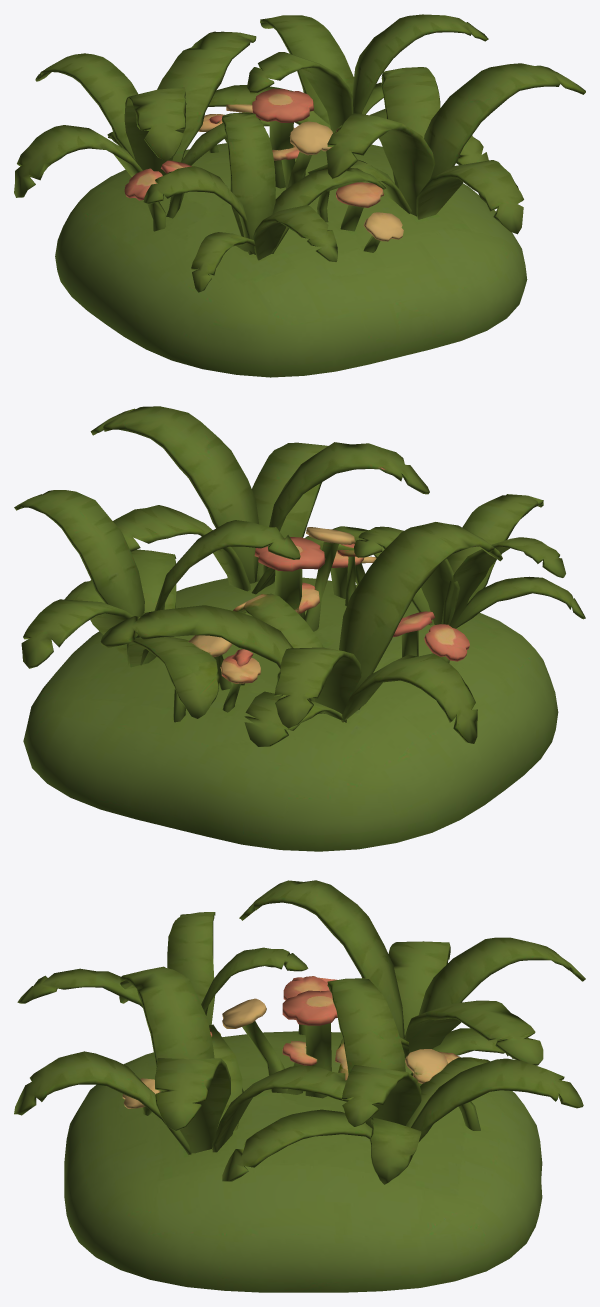
File: fern-flower-patch.glb
3 renders of one model, top to bottom at view 1: azimuth 30°, elevation 25°; view 2: azimuth 150°, elevation 25°; view 3: azimuth 270°, elevation 25°, orthographic. The views are drawn at different scales.
Parts seen in each view (by area): view 1: Fern Flower Patch; view 2: Fern Flower Patch; view 3: Fern Flower Patch.
Boxes of the visible parts, x1,y1,x2,y2 form: Fern Flower Patch: (14, 14, 585, 377); Fern Flower Patch: (14, 406, 585, 851); Fern Flower Patch: (14, 880, 585, 1292).
Bounding box in the file's own units: 0.998 × 0.4512 × 0.998.
Materials: 1 (1 with a texture image).
